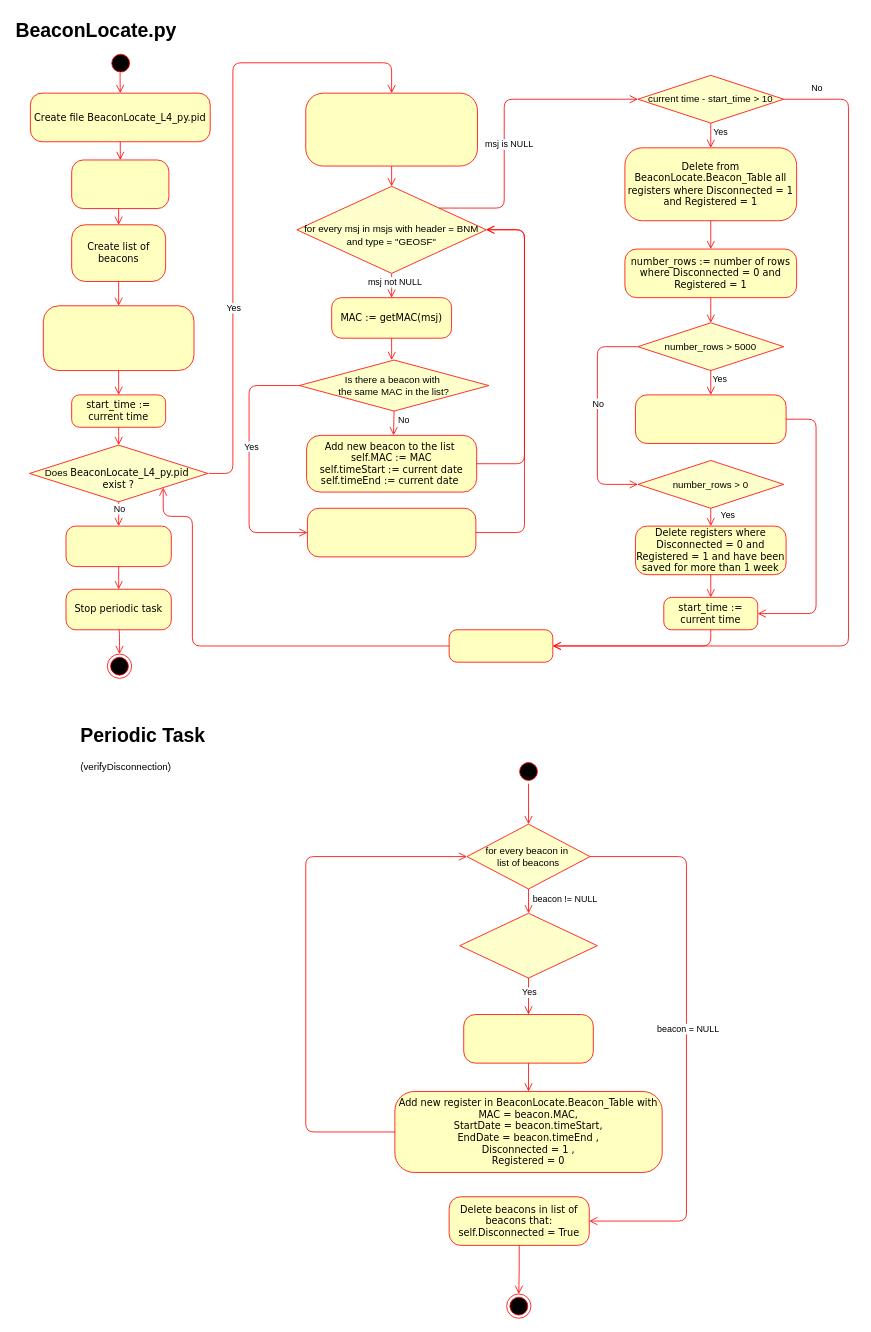
The diagram is 871 pixels wide and 1332 high, and some of its shapes have lost their labels. The centre of each missing label's shape, as x and y in pixels:
beacon.Disconnected := True: (528,1038)
Close db's connections: (118,546)
Create handlers for BLE.db and BeaconLocate.db: (120,184)
Define periodic task (T := 10) that verifies the disconnection of listed beacons: (118,338)
Delete registers where Disconnected = 0 and Registered = 1: (710,418)
if current_date - beacon.timeEnd > 10 s: (528,945)
Save in msjs all unprocessed messages saved in BLE.db: (391,129)
sleep 20 ms: (500,645)
Update self.timeEnd of the beacon with self.MAC = MAC already listed.: (391,532)
